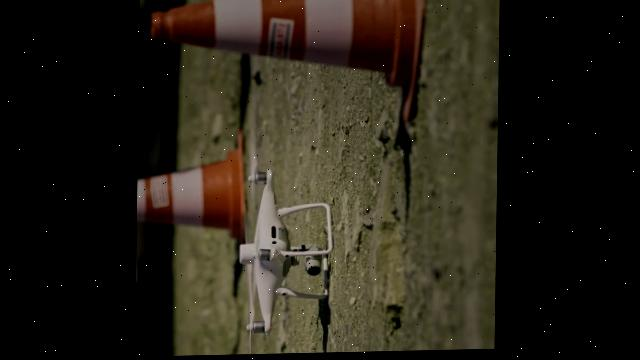drone: (236, 132, 337, 356)
